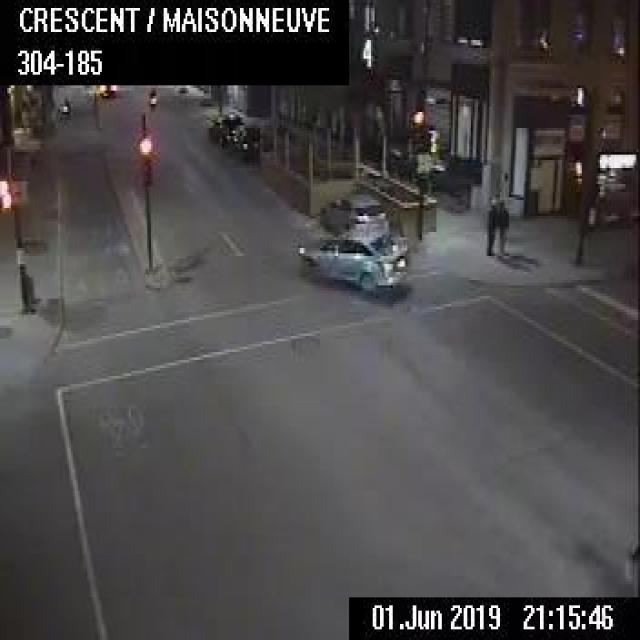pedestrian: (496, 200, 508, 254), (484, 202, 496, 252)
vehicle: (302, 228, 406, 296), (318, 190, 387, 235), (207, 109, 242, 145), (230, 121, 265, 154), (53, 95, 71, 123), (96, 82, 116, 99), (147, 86, 156, 110)
